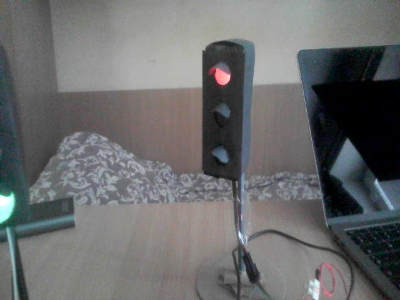trafficlight_red: (202, 43, 244, 178)
